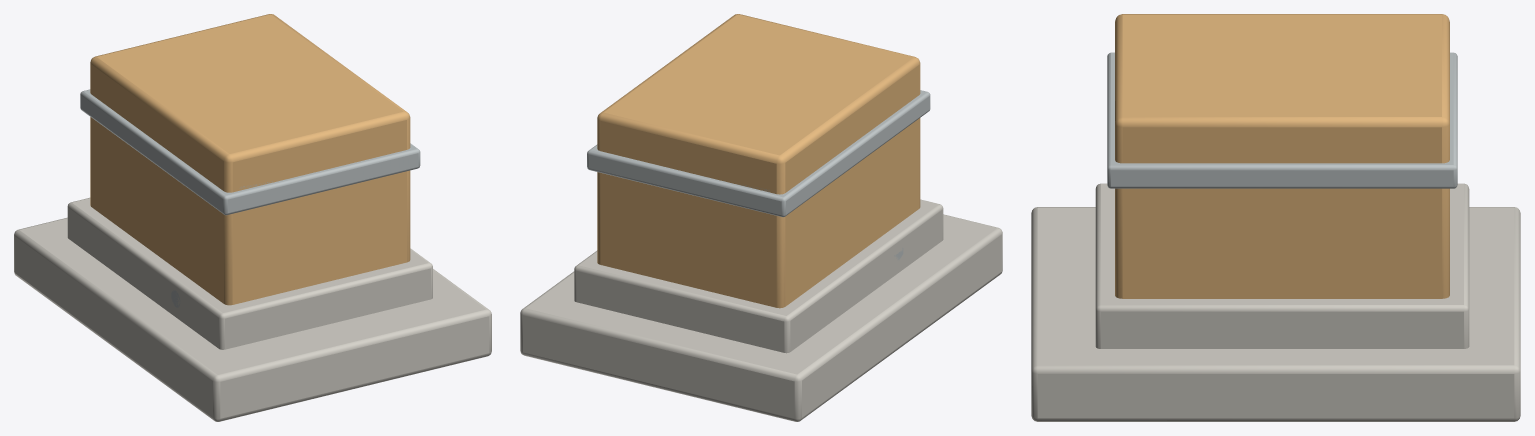
The model's file is fieldvision-pump-station.glb.
The picture shows the model from 3 angles, left to right: view 1: azimuth 30°, elevation 25°; view 2: azimuth 150°, elevation 25°; view 3: azimuth 270°, elevation 25°; orthographic projection. The views are drawn at different scales.
Visible parts, largest first — view 1: HouseBody, Foundation, Plinth, HouseRoof; view 2: HouseBody, Foundation, Plinth, HouseRoof; view 3: HouseBody, Foundation, Plinth, HouseRoof.
Part boxes in pixels (x1,y1,x2,y2): HouseBody: (90, 14, 410, 305); Foundation: (14, 217, 491, 421); Plinth: (67, 197, 432, 349); HouseRoof: (80, 89, 420, 215); HouseBody: (597, 14, 920, 308); Foundation: (520, 214, 1002, 421); Plinth: (574, 199, 943, 353); HouseRoof: (587, 90, 930, 217); HouseBody: (1115, 14, 1449, 298); Foundation: (1031, 207, 1520, 421); Plinth: (1095, 183, 1469, 348); HouseRoof: (1107, 52, 1457, 188).
Size of the model in its own units: 3 by 2.37 by 3.8.
